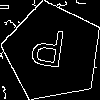P: (27, 27, 67, 78)
